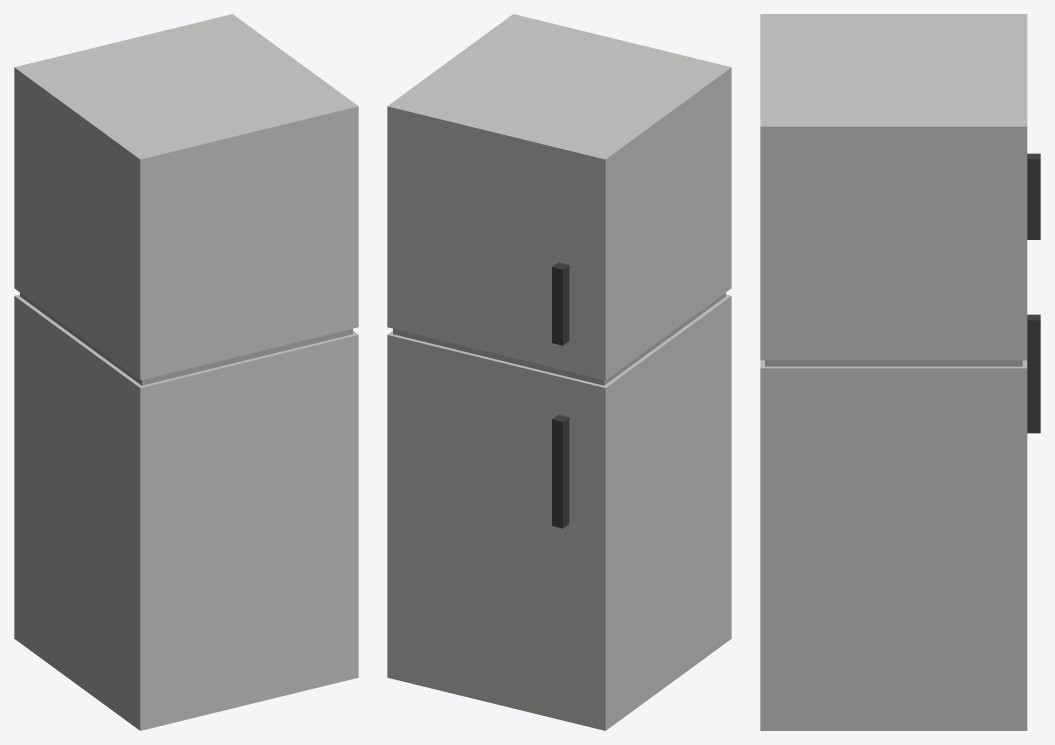
File: fridge.fbx
The picture shows the model from 3 angles, left to right: view 1: azimuth 30°, elevation 25°; view 2: azimuth 150°, elevation 25°; view 3: azimuth 270°, elevation 25°; orthographic projection. The views are drawn at different scales.
Parts seen in each view (by area): view 1: cube_1, cube, cube_2; view 2: cube_1, cube, cube_4, cube_2, cube_3; view 3: cube_1, cube, cube_2, cube_4, cube_3.
Boxes of the visible parts, box(x1,y1,x2,y2) form: cube_1: box(14, 294, 358, 730); cube: box(14, 14, 358, 380); cube_2: box(20, 292, 352, 385); cube_1: box(387, 294, 731, 730); cube: box(387, 14, 731, 380); cube_4: box(552, 414, 569, 528); cube_2: box(393, 292, 725, 385); cube_3: box(552, 262, 569, 345); cube_1: box(760, 360, 1027, 730); cube: box(760, 14, 1027, 360); cube_2: box(765, 360, 1022, 366); cube_4: box(1027, 314, 1040, 433); cube_3: box(1027, 153, 1040, 239).
Bounding box in the file's own units: 37.5 × 93.75 × 39.38.
Materials: 1 (1 with a texture image).
